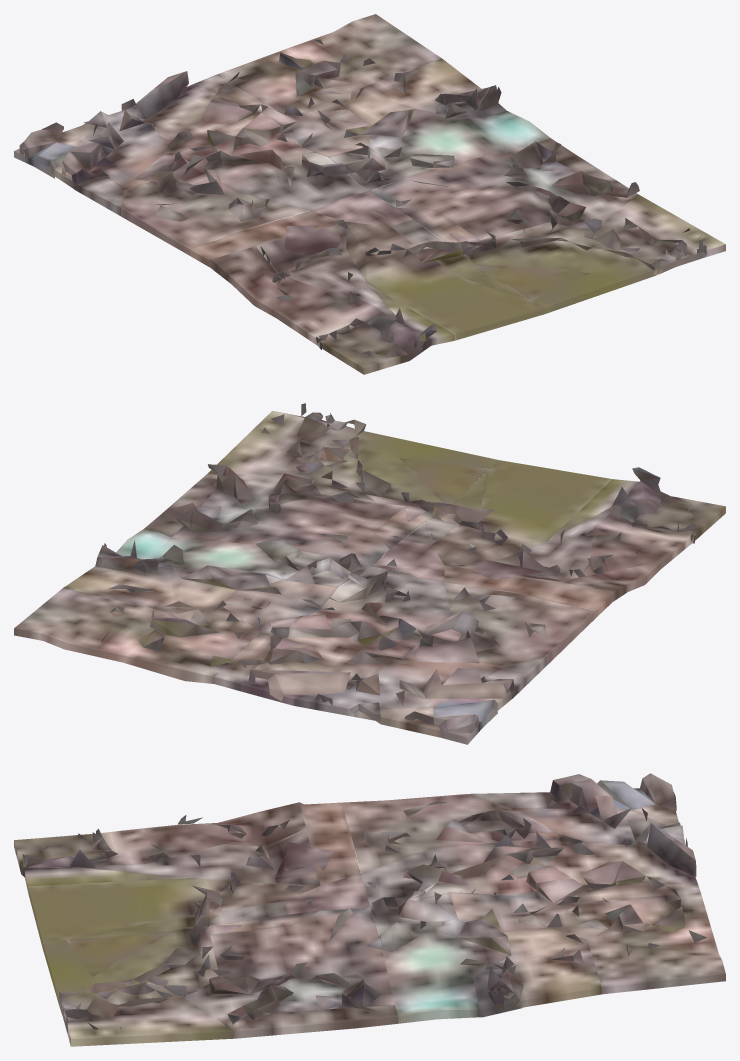
3 views of the same model, one above another, from view 1: azimuth 30°, elevation 25°; view 2: azimuth 150°, elevation 25°; view 3: azimuth 270°, elevation 25° (orthographic). The views are drawn at different scales.
Parts seen in each view (by area): view 1: Mesh_0; view 2: Mesh_0; view 3: Mesh_0.
Boxes of the visible parts, x1,y1,x2,y2 form: Mesh_0: (14, 14, 725, 374); Mesh_0: (14, 403, 725, 744); Mesh_0: (14, 773, 725, 1046).
Size of the model in its own units: 532 by 59.86 by 659.
Materials: 1 (1 with a texture image).
